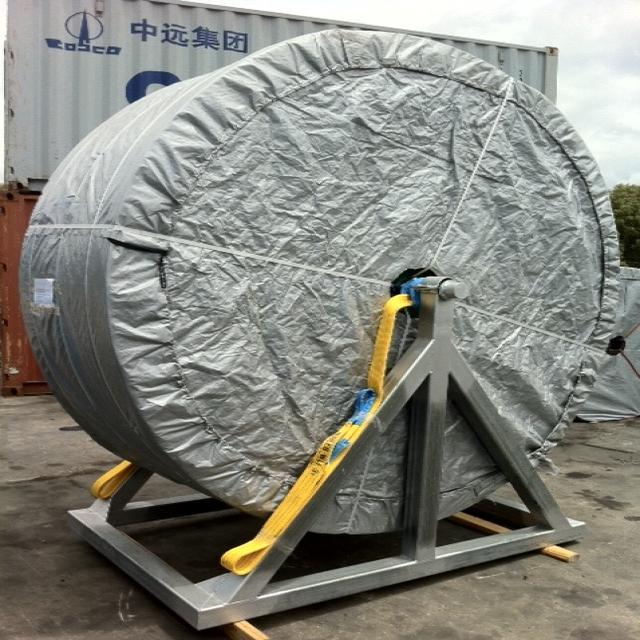broyeur: (45, 30, 620, 533)
